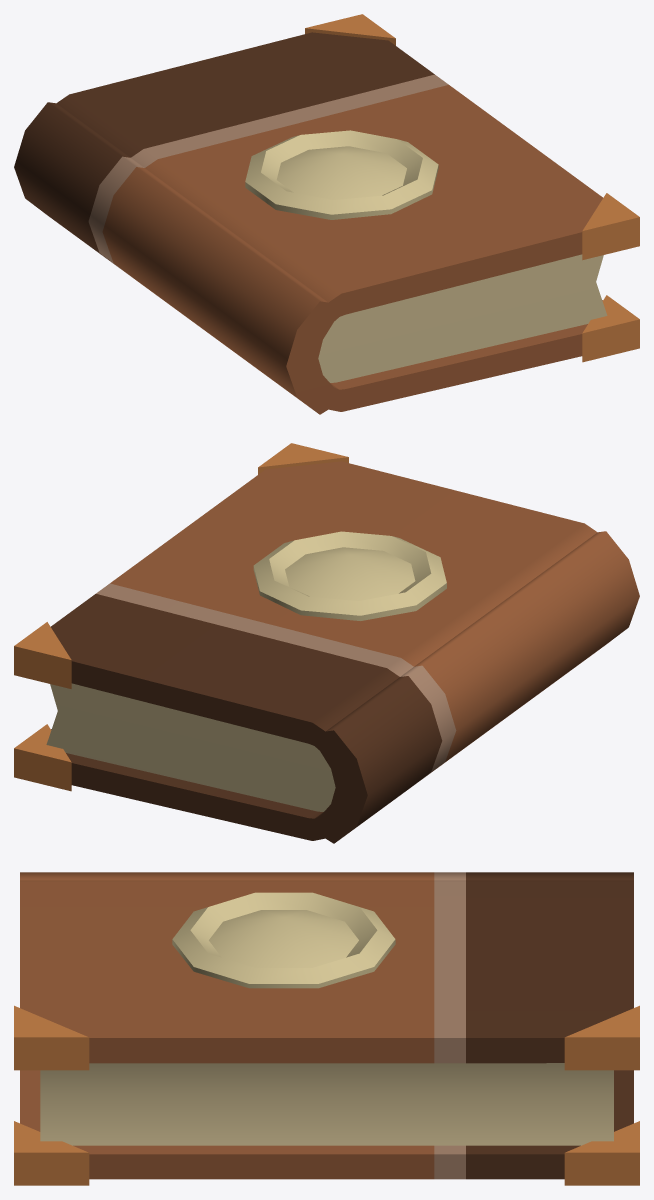
The model's file is Book_H.fbx.
3 views of the same model, one above another, from view 1: azimuth 30°, elevation 25°; view 2: azimuth 150°, elevation 25°; view 3: azimuth 270°, elevation 25° (orthographic). The views are drawn at different scales.
Parts seen in each view (by area): view 1: Book_H; view 2: Book_H; view 3: Book_H.
Part boxes in pixels (bbox=[...]): Book_H: bbox=[14, 14, 639, 414]; Book_H: bbox=[14, 443, 639, 843]; Book_H: bbox=[14, 872, 639, 1185].
Bounding box in the file's own units: 25.55 × 10.46 × 34.95.
